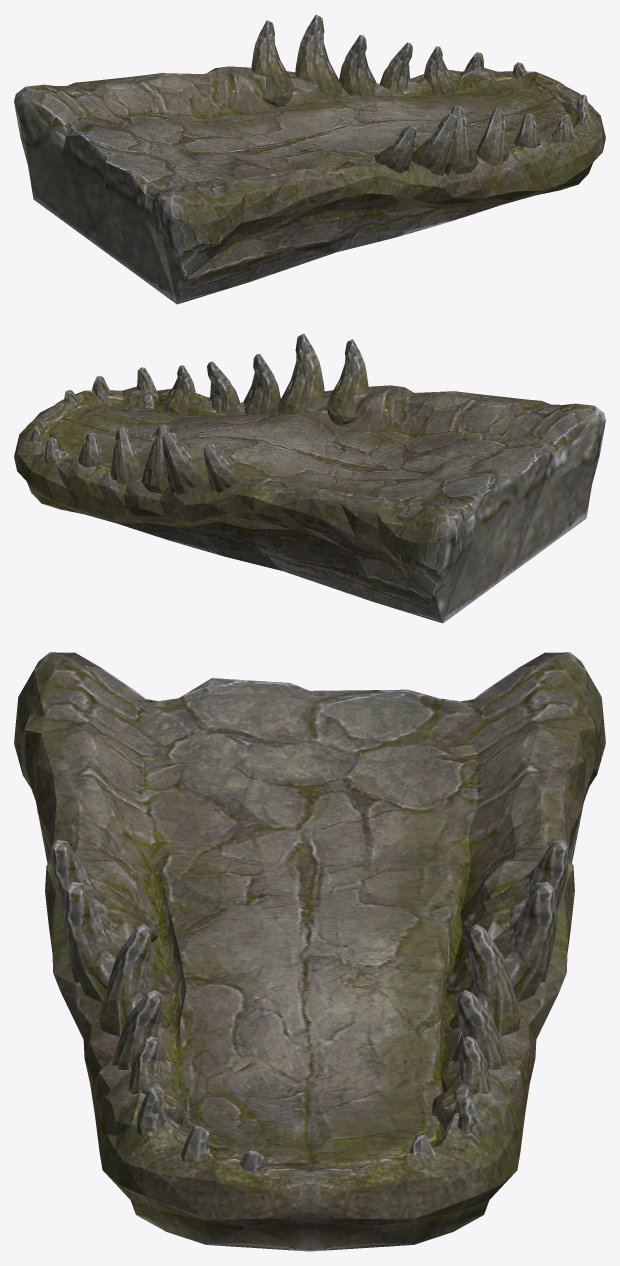
Rendered from bg_anh_gvalley_dstair01_02_sm_old.FBX.
3 views of the same model, one above another, from view 1: azimuth 30°, elevation 25°; view 2: azimuth 150°, elevation 25°; view 3: azimuth 270°, elevation 25° (orthographic). The views are drawn at different scales.
Visible parts, largest first — view 1: bg_anh_gvalley_dstair01_02_sm_old; view 2: bg_anh_gvalley_dstair01_02_sm_old; view 3: bg_anh_gvalley_dstair01_02_sm_old.
Boxes of the visible parts, x1,y1,x2,y2 form: bg_anh_gvalley_dstair01_02_sm_old: [14, 14, 605, 304]; bg_anh_gvalley_dstair01_02_sm_old: [14, 333, 605, 623]; bg_anh_gvalley_dstair01_02_sm_old: [14, 652, 605, 1251].
Size of the model in its own units: 637 by 152 by 379.
